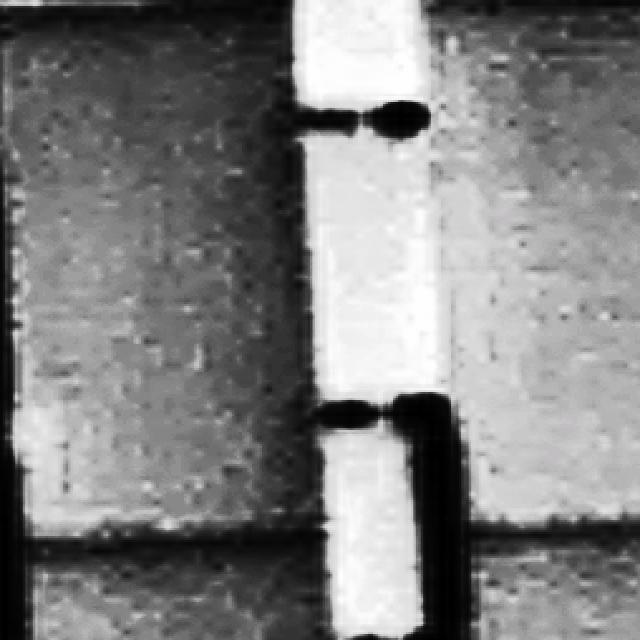PV-modules: (0, 6, 325, 548), (411, 0, 640, 538), (9, 542, 328, 640), (465, 537, 640, 640)
